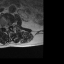CCS_normal: (6, 23, 7, 32)
LFS_severe_stenosis: (9, 22, 11, 28)
LLS_normal: (7, 22, 9, 30)
RFS_stenosis: (2, 23, 4, 29)
RLS_normal: (4, 23, 6, 30)
